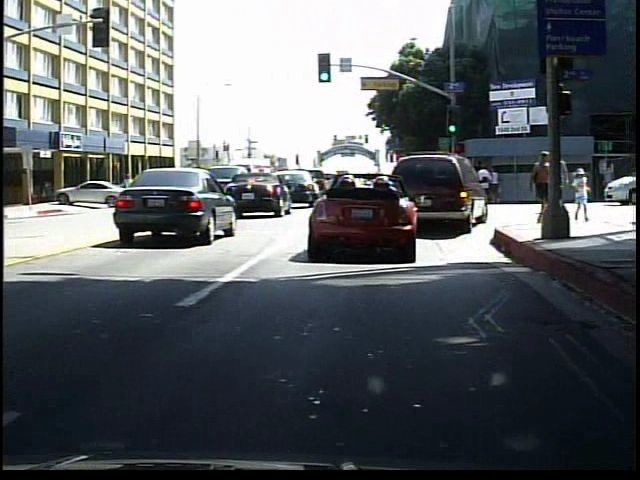person: (525, 149, 553, 222), (566, 169, 593, 223), (125, 172, 144, 205)
